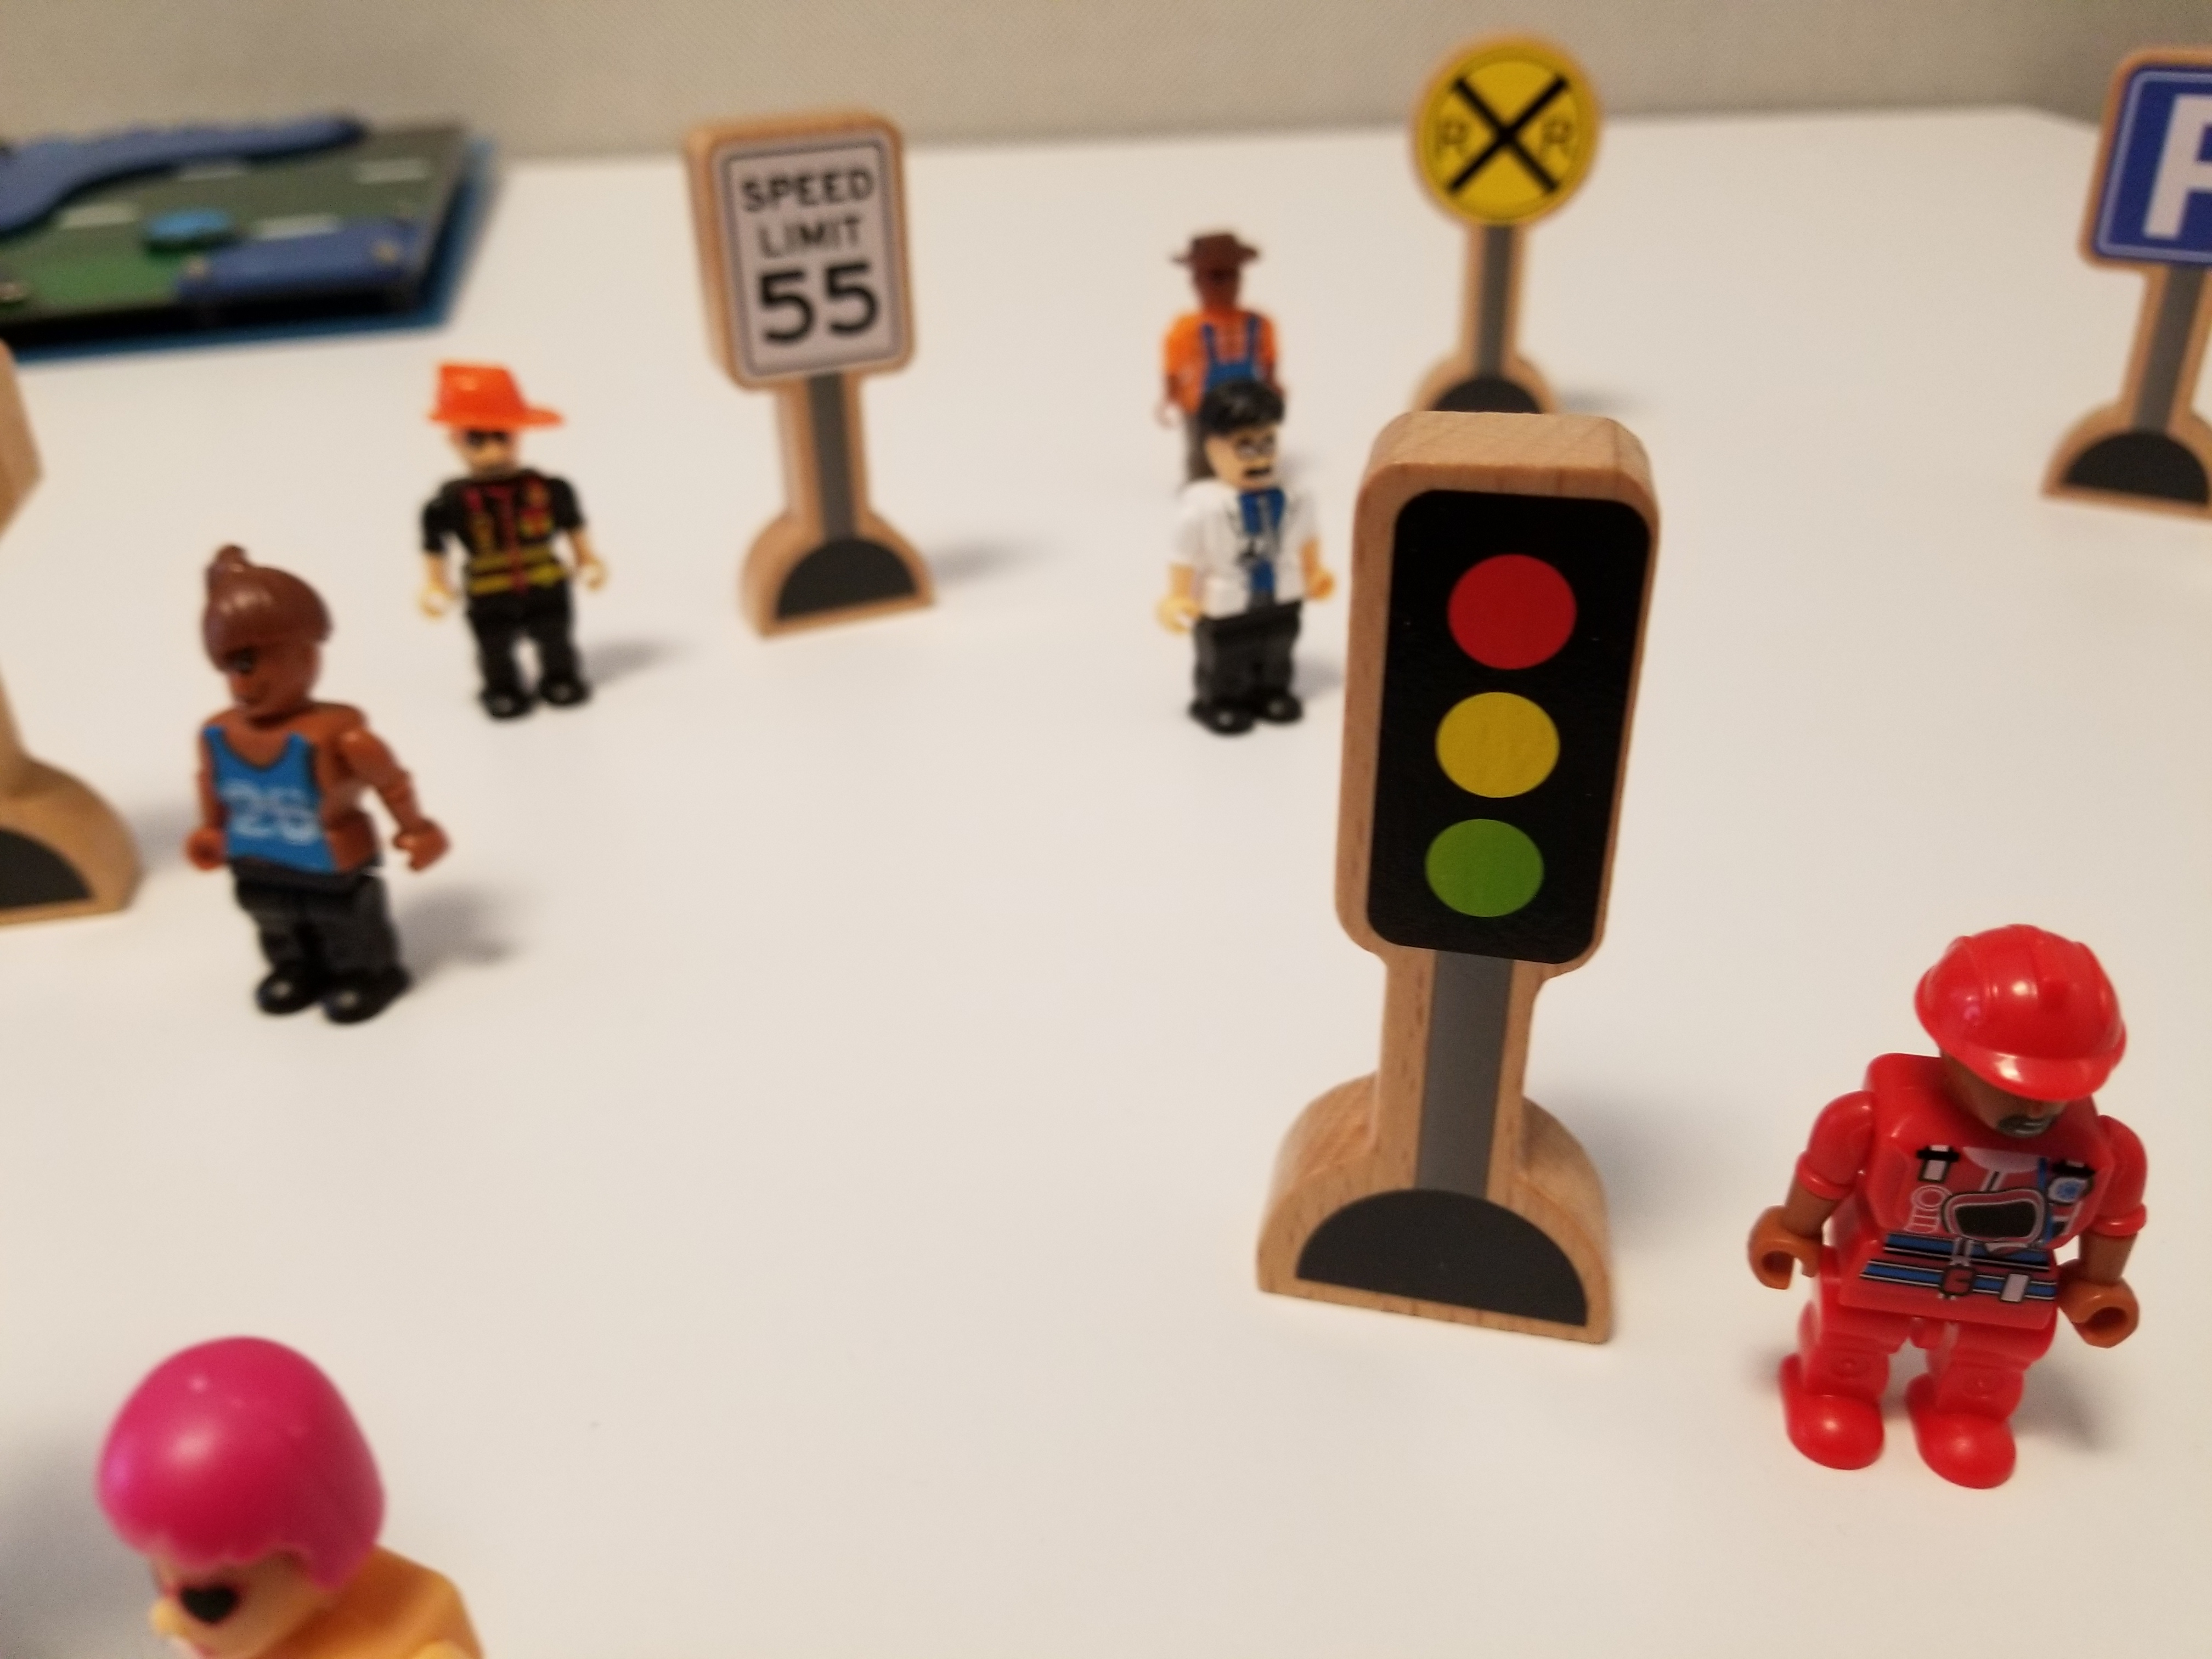Parking: (2062, 14, 2212, 555)
Railroad Crossing: (1388, 21, 1634, 350)
Speed limit 55: (673, 95, 1017, 679)
Traffic Light: (1353, 381, 1645, 1331)
person: (1783, 890, 2134, 1522), (137, 530, 469, 1048), (54, 1283, 472, 1659), (394, 350, 631, 730), (1151, 374, 1333, 811)
